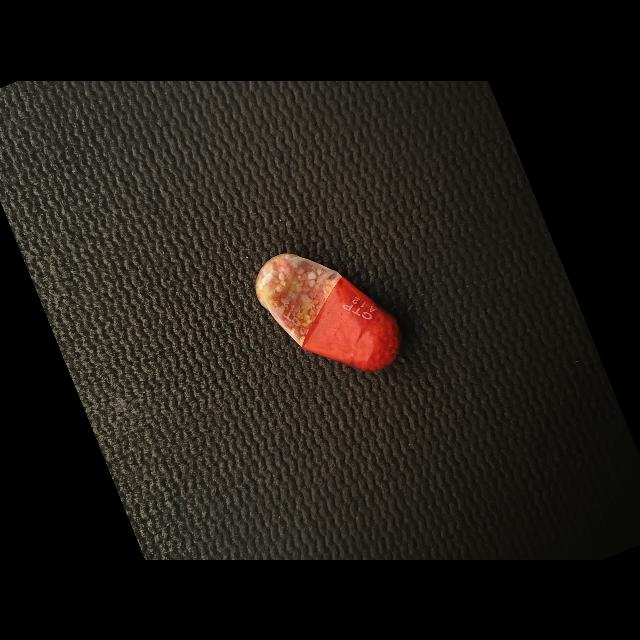Defective Capsule: (256, 252, 401, 371)
